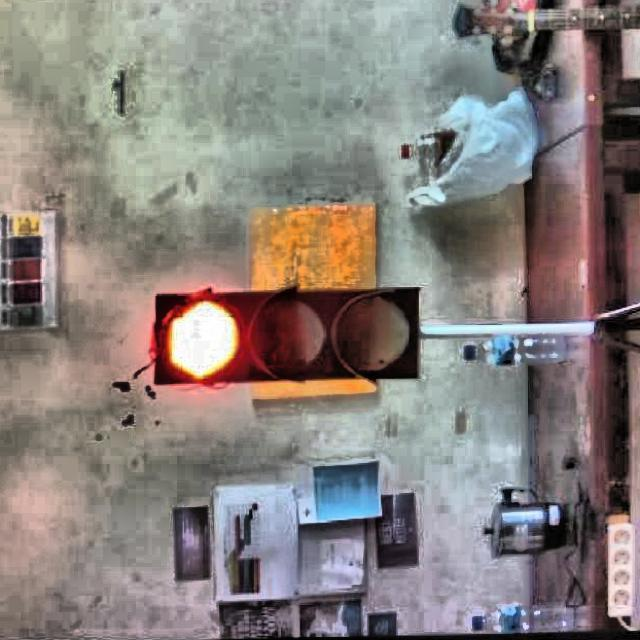red: (153, 288, 429, 387)
